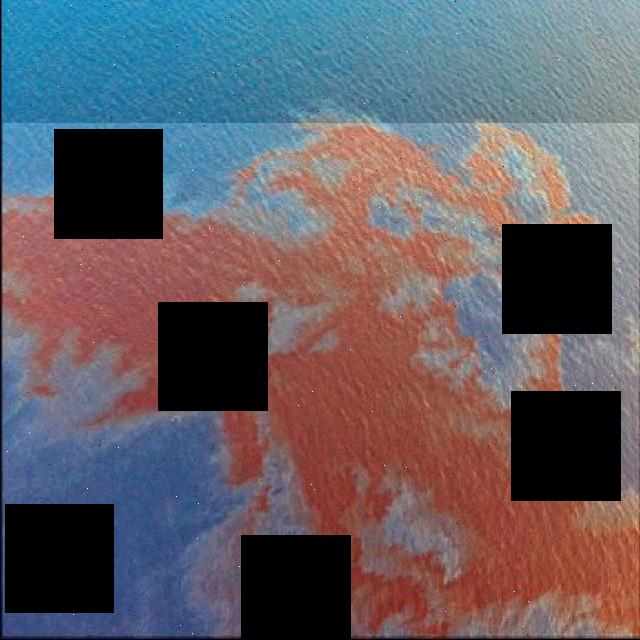oil spill: (3, 124, 640, 636)
